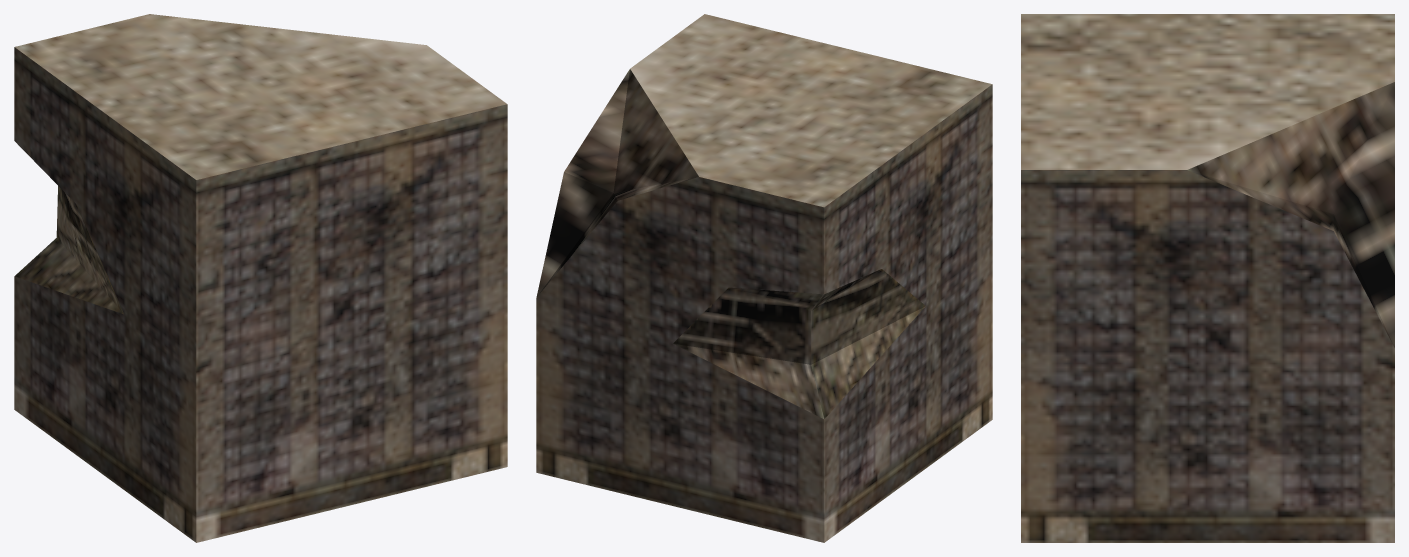
The model's file is Background_Building_3.fbx.
The picture shows the model from 3 angles, left to right: view 1: azimuth 30°, elevation 25°; view 2: azimuth 150°, elevation 25°; view 3: azimuth 270°, elevation 25°; orthographic projection. The views are drawn at different scales.
Visible parts, largest first — view 1: Background_Building_3; view 2: Background_Building_3; view 3: Background_Building_3.
Boxes of the visible parts, x1,y1,x2,y2 form: Background_Building_3: [14, 14, 507, 542]; Background_Building_3: [536, 14, 992, 542]; Background_Building_3: [1021, 14, 1394, 542].
Bounding box in the file's own units: 3544 × 3948 × 3588.
